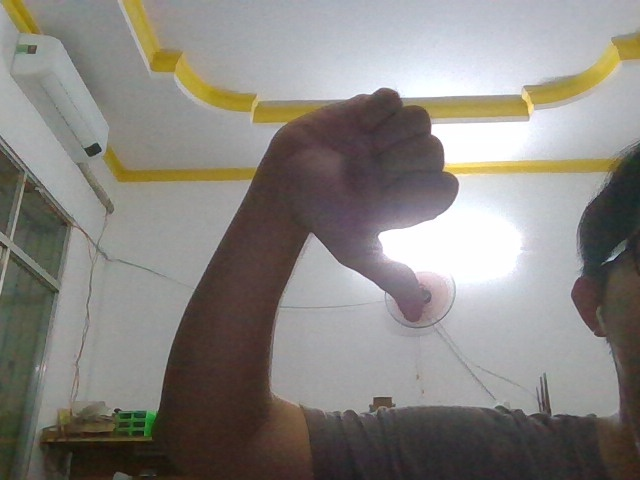thumb_down: (244, 76, 469, 334)
